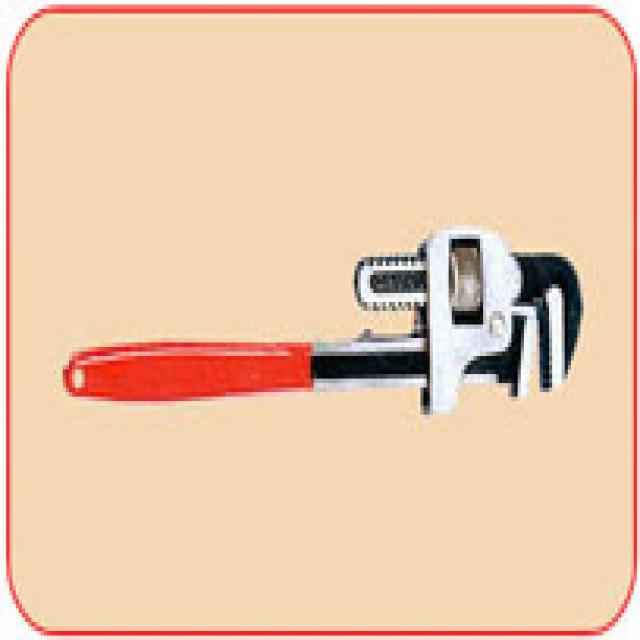wrench: (57, 218, 588, 422)
